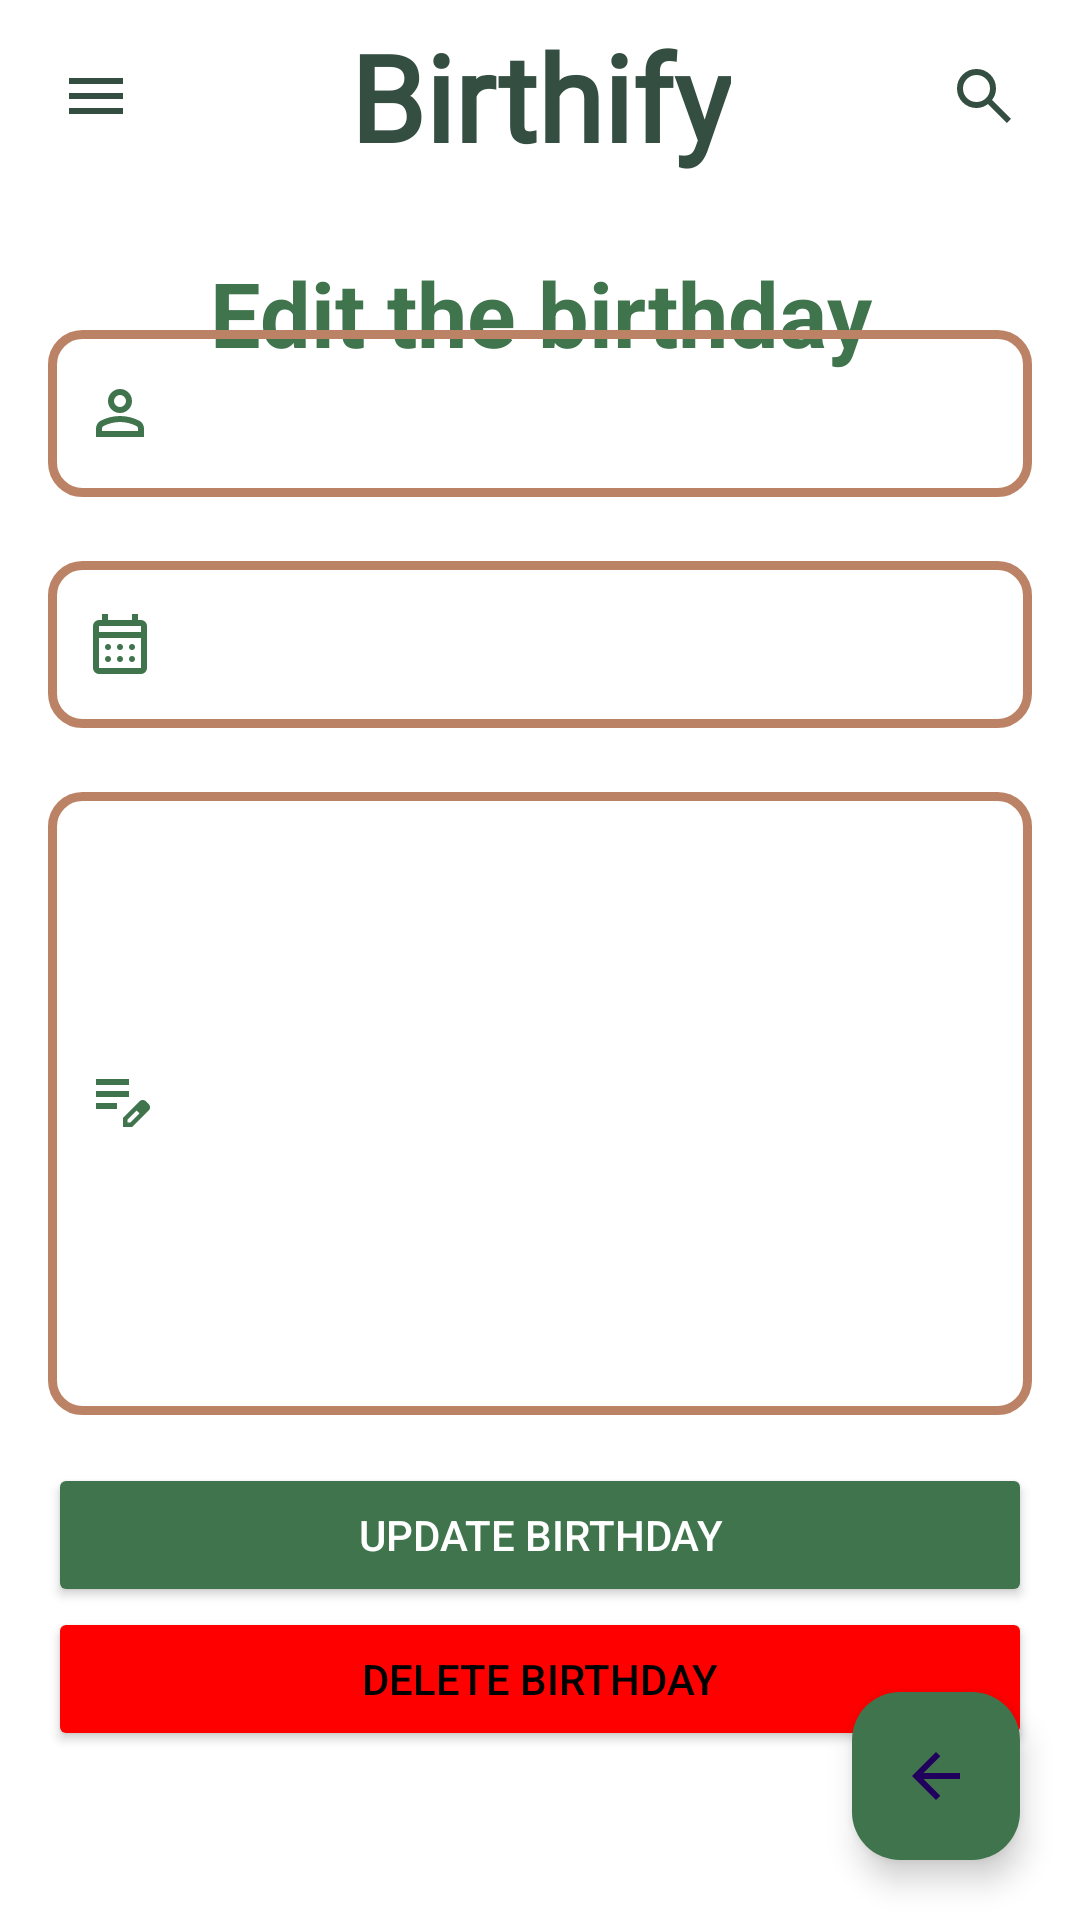

Screen size 1080 × 1920. Icon name, then its center in pixels as point (x, y):
Back Button: point (936, 1776)
Toolbar Menu Three Lines: point (96, 96)
